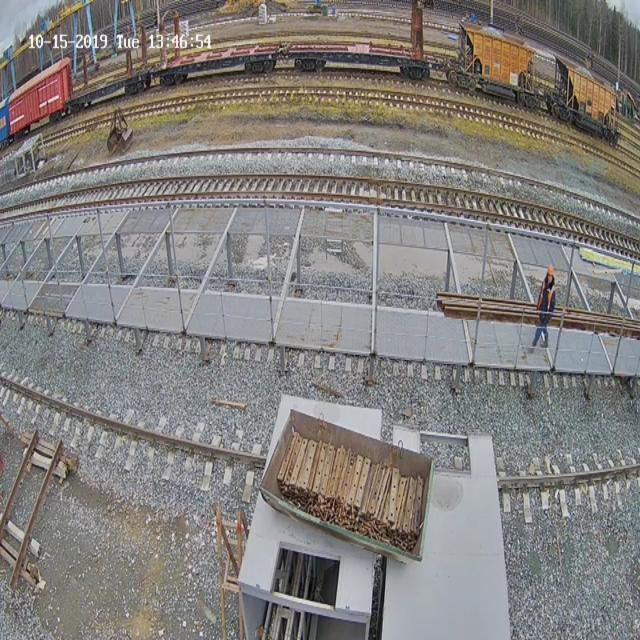Helmet: (547, 266, 554, 276)
Person: (531, 266, 556, 348)
